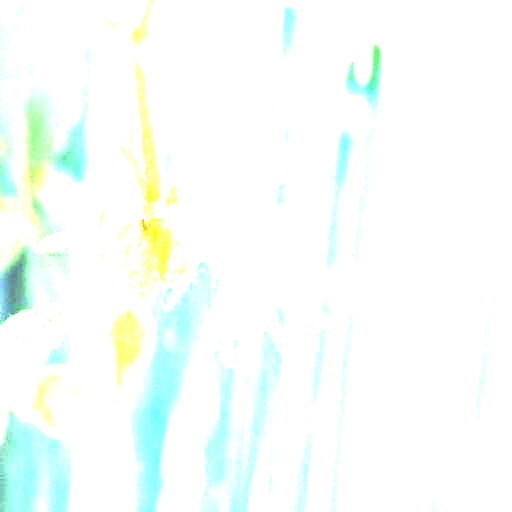Gray Mold: (141, 137, 325, 367)
